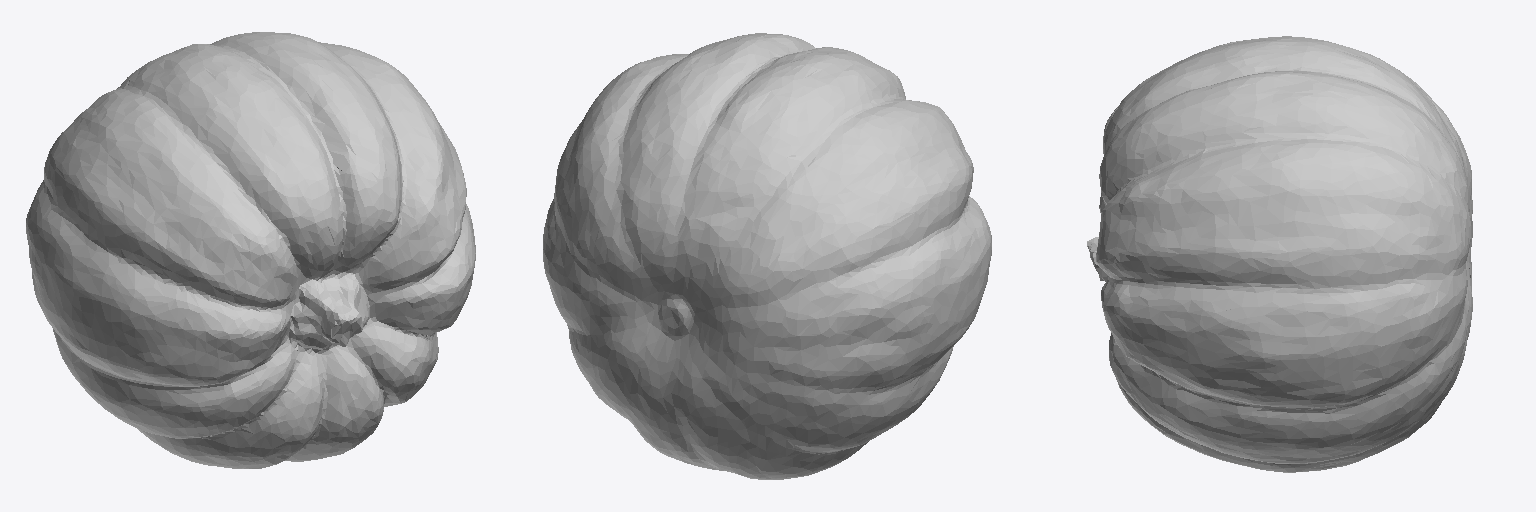
File: pumpkin2.obj
The picture shows the model from 3 angles: view 1: azimuth 30°, elevation 25°; view 2: azimuth 150°, elevation 25°; view 3: azimuth 270°, elevation 25°; orthographic projection.
Parts seen in each view (by area): view 1: pumpkin; view 2: pumpkin; view 3: pumpkin.
Boxes of the visible parts, <box> form: pumpkin: <box>26,32,475,468</box>; pumpkin: <box>543,33,991,479</box>; pumpkin: <box>1087,36,1472,472</box>.
Size of the model in its own units: 3.04 by 2.96 by 2.63.